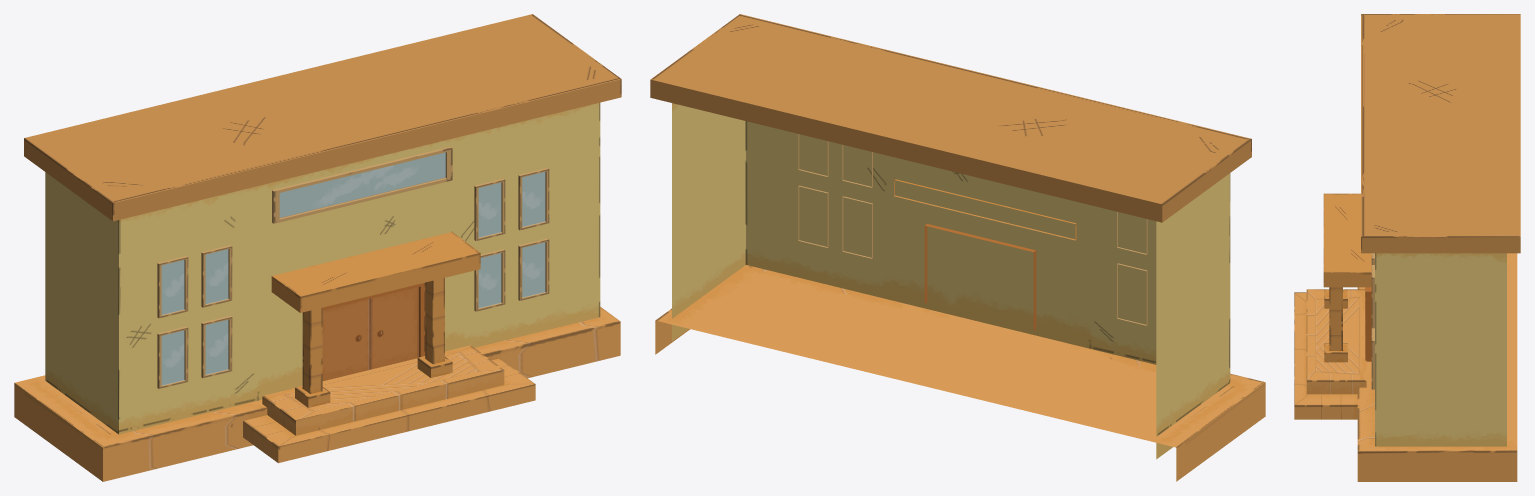
File: BUILD_Outside_Class.fbx
3 renders of one model, left to right at view 1: azimuth 30°, elevation 25°; view 2: azimuth 150°, elevation 25°; view 3: azimuth 270°, elevation 25°, orthographic. The views are drawn at different scales.
Visible parts, largest first — view 1: Cube.039, Cube.063, Cube.040, Cube.058, Cube.041, Cube.057, Cube.061, Cube.062, Cube.060; view 2: Cube.039, Cube.063, Cube.040, Cube.061, Cube.041; view 3: Cube.039, Cube.063, Cube.058, Cube.041, Cube.057, Cube.060, Cube.040, Cube.061.
Part boxes in pixels (x1,y1,x2,y2): Cube.039: [24, 14, 621, 434]; Cube.063: [14, 307, 620, 481]; Cube.040: [157, 168, 549, 388]; Cube.058: [262, 345, 504, 435]; Cube.041: [271, 232, 480, 312]; Cube.057: [243, 358, 535, 463]; Cube.061: [322, 282, 425, 381]; Cube.062: [272, 146, 452, 223]; Cube.060: [295, 278, 452, 407]; Cube.039: [650, 14, 1251, 459]; Cube.063: [655, 265, 1265, 481]; Cube.040: [798, 134, 1147, 325]; Cube.061: [924, 224, 1036, 330]; Cube.041: [894, 179, 1076, 240]; Cube.039: [1361, 14, 1520, 446]; Cube.063: [1357, 253, 1517, 481]; Cube.058: [1306, 289, 1366, 394]; Cube.041: [1323, 193, 1371, 287]; Cube.057: [1294, 292, 1357, 419]; Cube.060: [1324, 287, 1347, 362]; Cube.040: [1371, 253, 1374, 389]; Cube.061: [1365, 287, 1371, 361].
Size of the model in its own units: 1638 by 825 by 688.
Materials: 1 (1 with a texture image).
